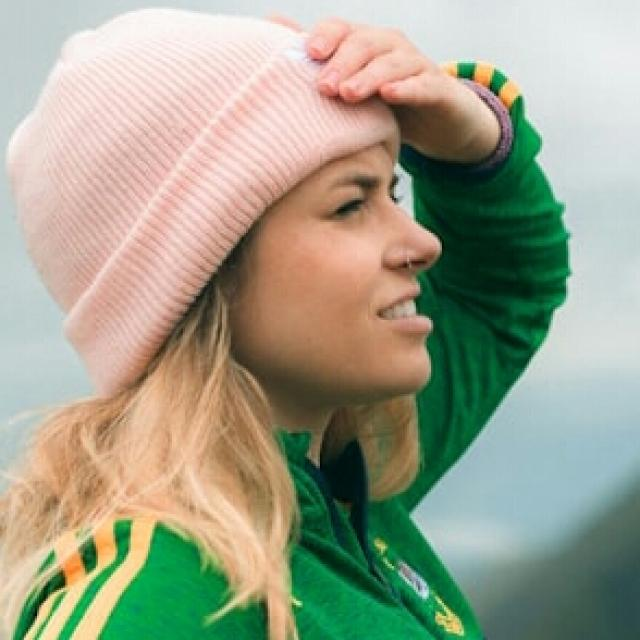front: (276, 150, 459, 401)
